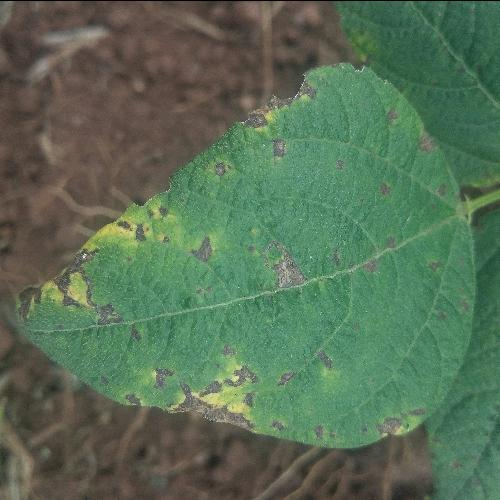embun tepung: (311, 163, 450, 351)
mozaik: (45, 94, 273, 445)
